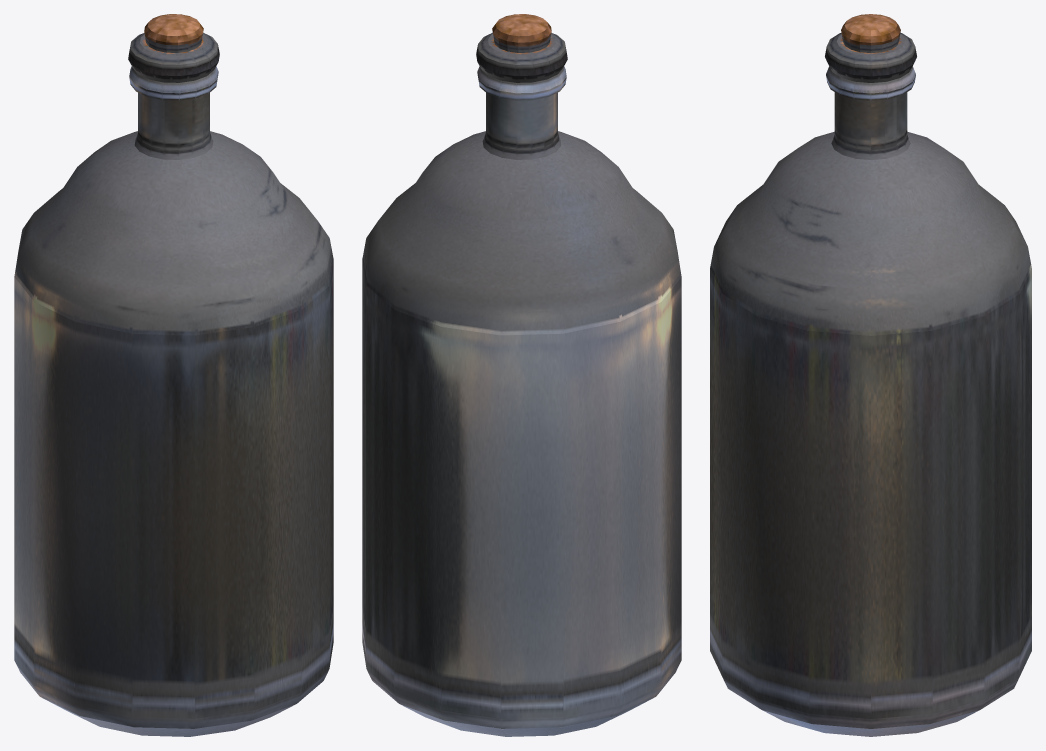
The model's file is jug04.fbx.
3 views of the same model, side by side, from view 1: azimuth 30°, elevation 25°; view 2: azimuth 150°, elevation 25°; view 3: azimuth 270°, elevation 25° (orthographic).
Parts seen in each view (by area): view 1: bottle04.002; view 2: bottle04.002; view 3: bottle04.002.
Boxes of the visible parts, box(x1,y1,x2,y2) form: bottle04.002: box(14, 14, 333, 736); bottle04.002: box(362, 14, 681, 736); bottle04.002: box(710, 14, 1031, 736).
Bounding box in the file's own units: 0.1425 × 0.1425 × 0.3248.
Materials: 1 (1 with a texture image).
